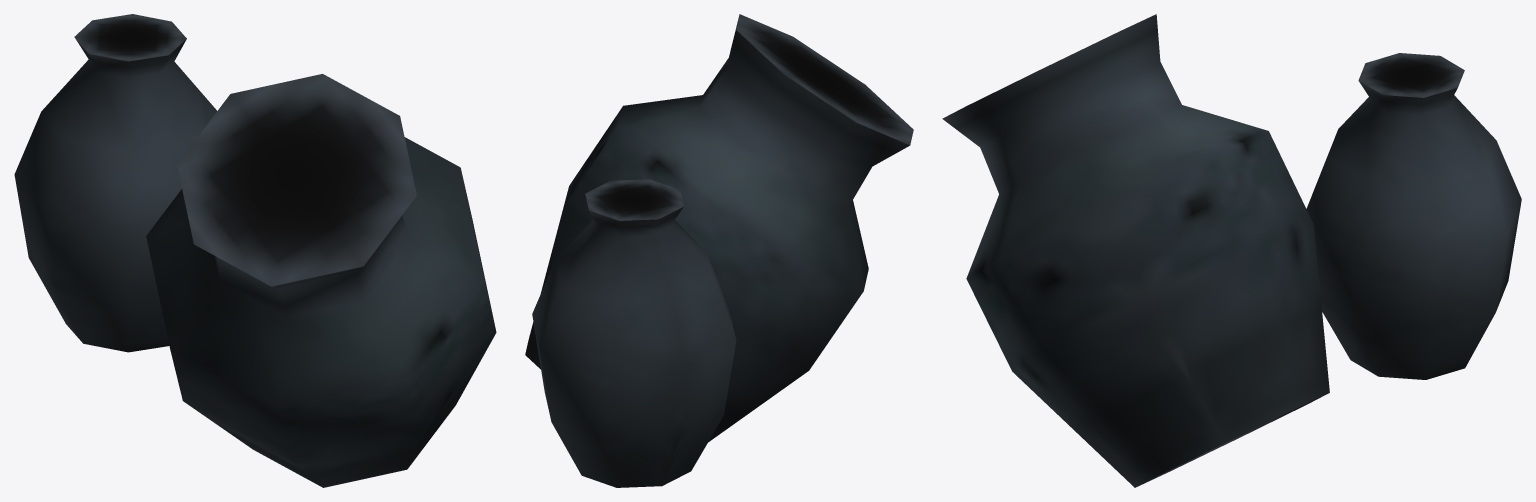
The model's file is Area06_29.fbx.
The picture shows the model from 3 angles, left to right: view 1: azimuth 30°, elevation 25°; view 2: azimuth 150°, elevation 25°; view 3: azimuth 270°, elevation 25°; orthographic projection. The views are drawn at different scales.
Visible parts, largest first — view 1: Area06_29; view 2: Area06_29; view 3: Area06_29.
Part boxes in pixels (x1,y1,x2,y2): Area06_29: [14, 14, 496, 487]; Area06_29: [525, 14, 913, 487]; Area06_29: [942, 14, 1521, 487].
Bounding box in the file's own units: 121 × 154 × 189.
